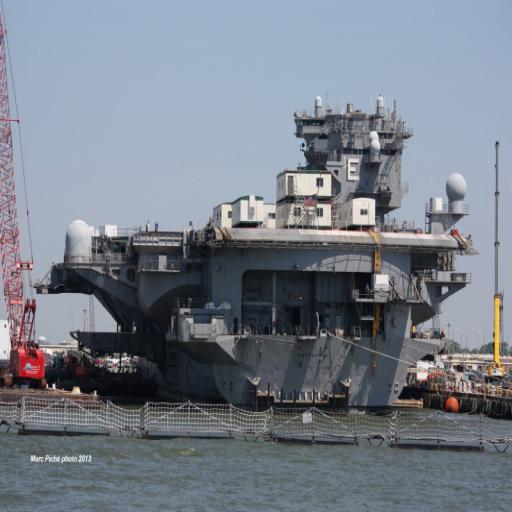Portanaves: (36, 91, 479, 425)
